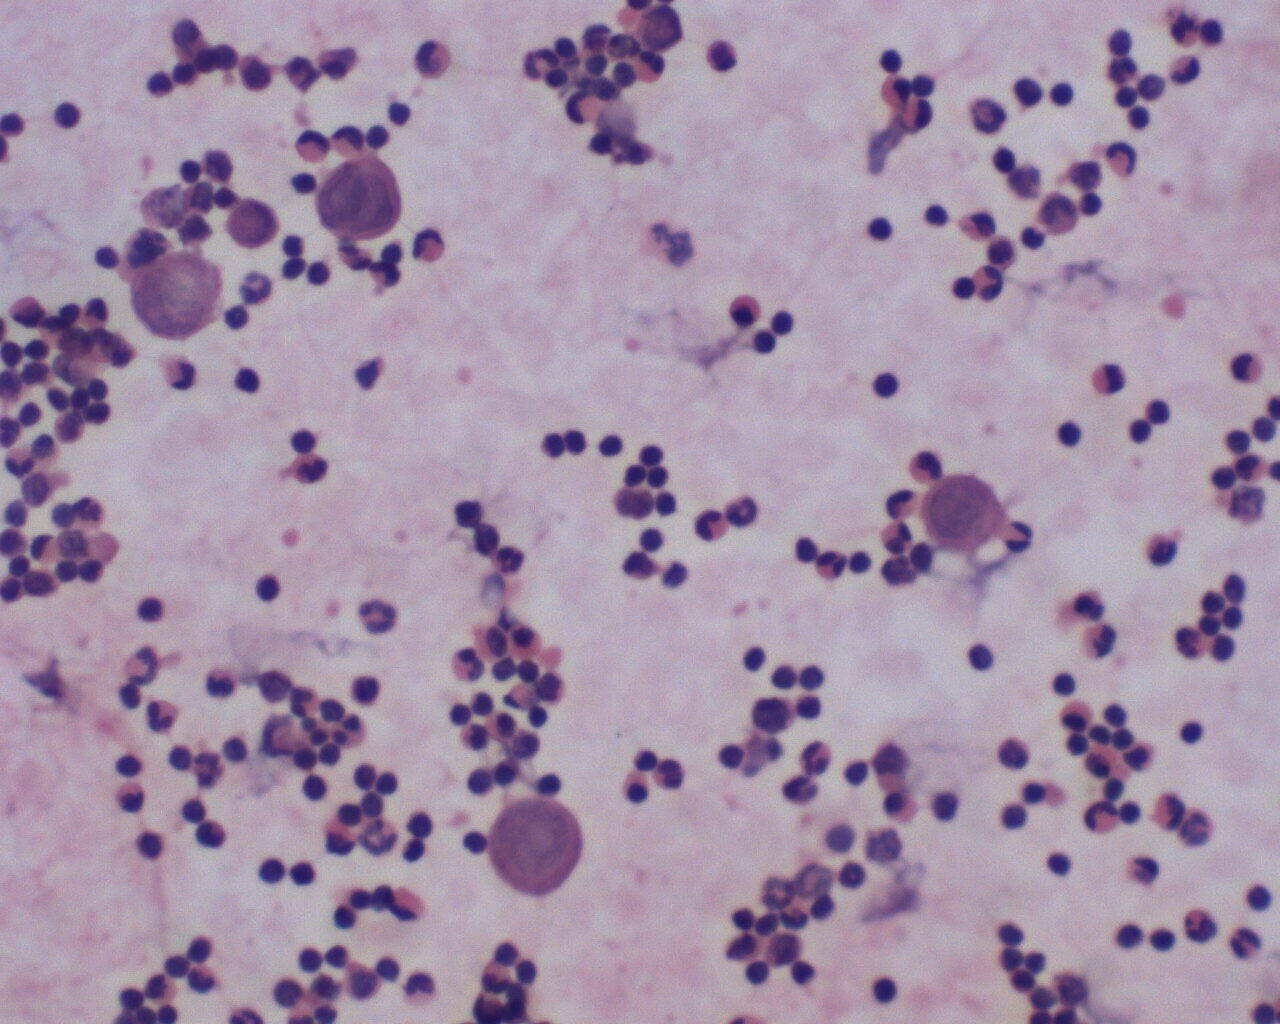ab: (491, 797, 586, 901), (127, 254, 224, 342), (315, 154, 406, 239), (922, 472, 1009, 559)
lymph: (133, 823, 170, 865), (960, 638, 998, 679), (859, 211, 900, 247), (252, 565, 286, 607), (49, 98, 88, 135), (987, 143, 1027, 179), (229, 360, 269, 395), (1053, 415, 1088, 452), (797, 658, 835, 693), (713, 740, 749, 774), (867, 972, 902, 1007), (770, 659, 805, 694), (868, 370, 902, 405), (1043, 77, 1078, 111), (256, 856, 288, 887), (738, 641, 770, 672)
neutro: (445, 643, 490, 686), (142, 693, 187, 735), (359, 597, 401, 639), (289, 449, 333, 490), (1225, 923, 1266, 963), (796, 736, 834, 779), (972, 263, 1009, 306), (1079, 800, 1122, 837), (723, 490, 763, 528), (489, 541, 527, 579), (812, 546, 850, 583), (1143, 531, 1179, 566)
